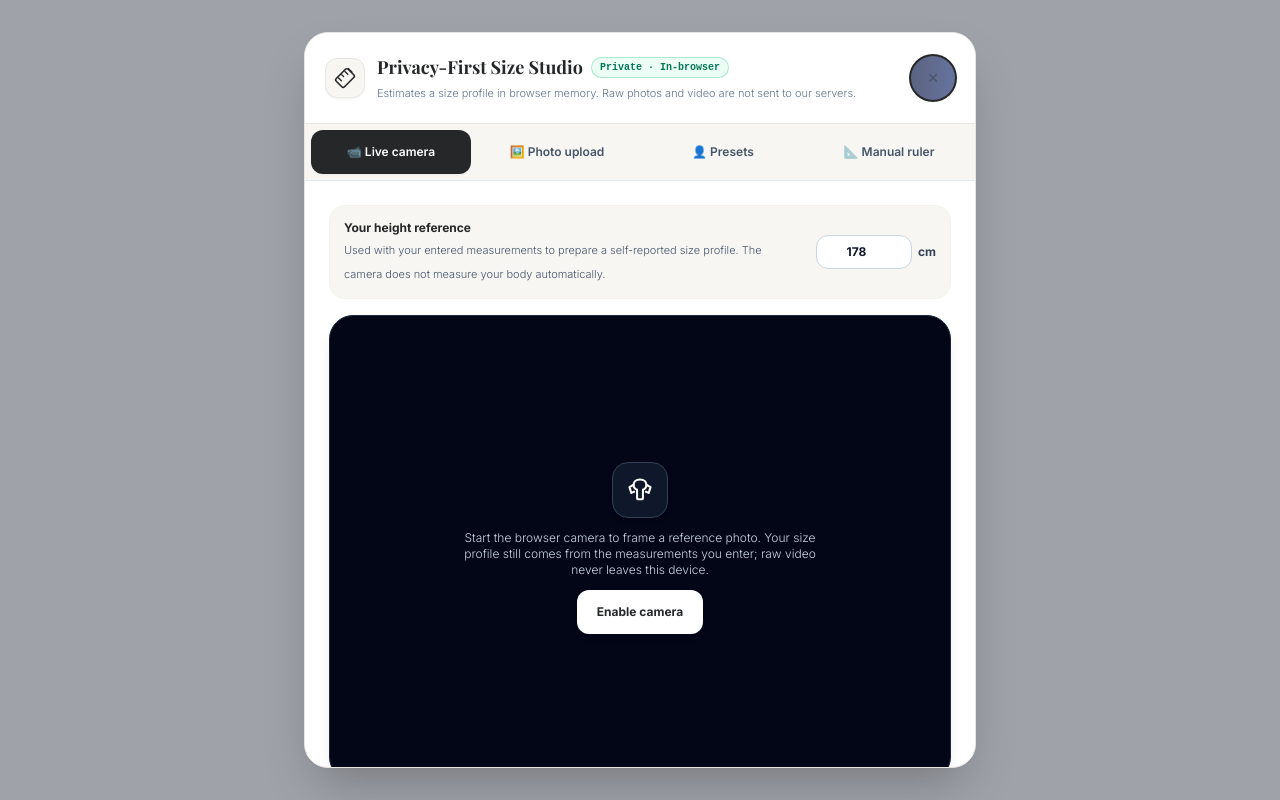
it: CameraScanModal responsive and privacy contract › shows an actionable no-camera fallback when permission is denied
This screenshot has width=1280, height=800.
Click the button "Enable camera" at x=640, y=612, box [577,590,703,634]
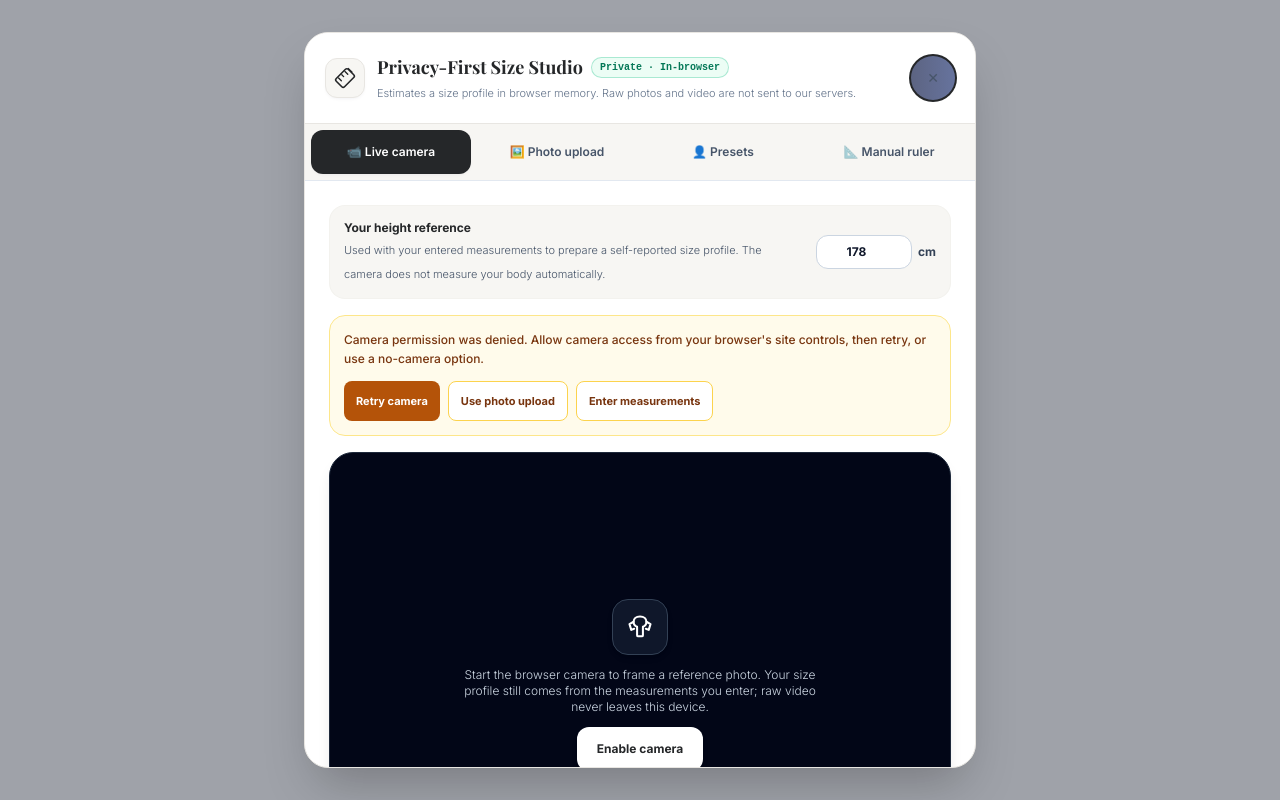
Result: the message shows "permission was denied" at [344,332,926,366]
Result: the button "Retry camera" is shown at [344,381,440,421]
Result: the button "Use photo upload" is shown at [448,381,568,421]
Click the button "Enter measurements" at x=645, y=401, box [576,381,713,421]
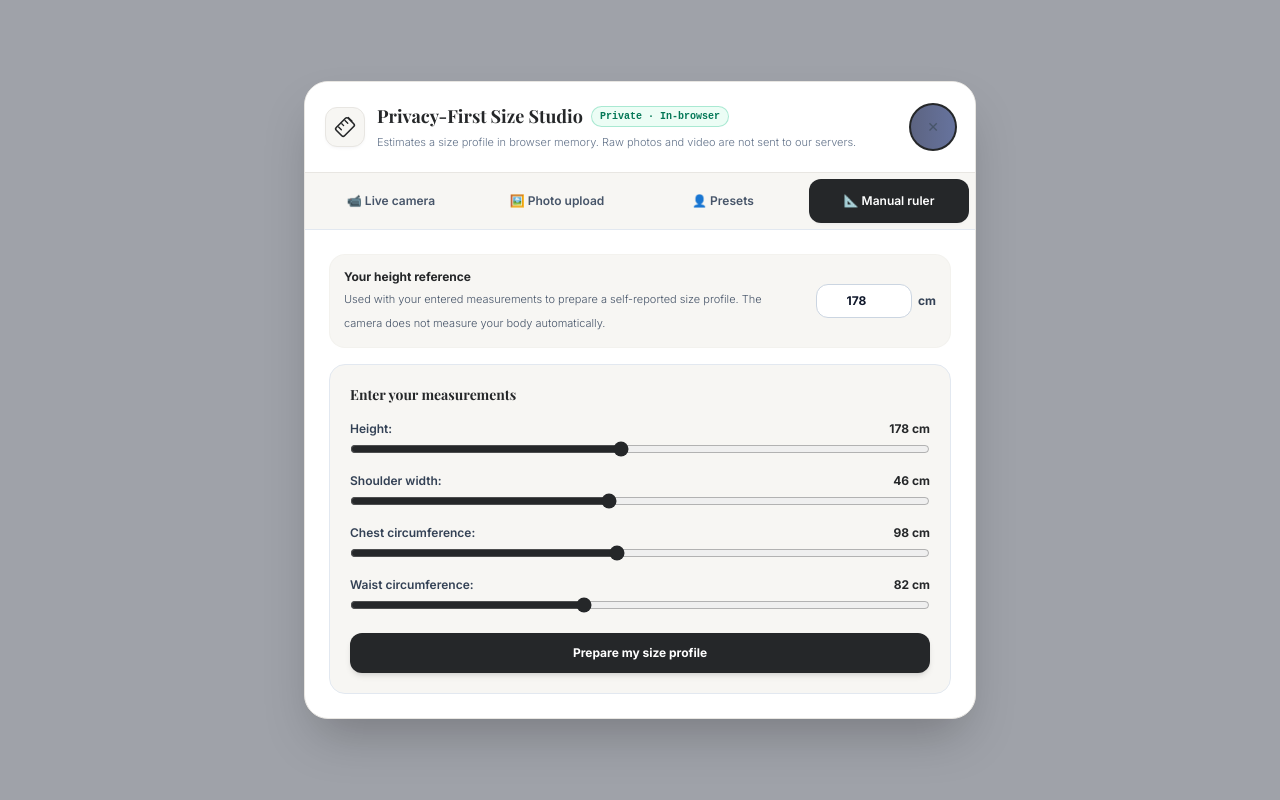
Result: the heading "Enter your measurements" is shown at [350,385,516,404]
